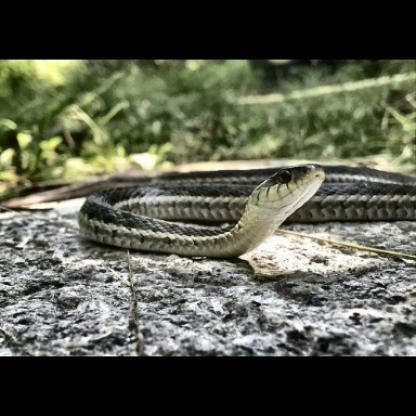Snake: (73, 148, 416, 254)
